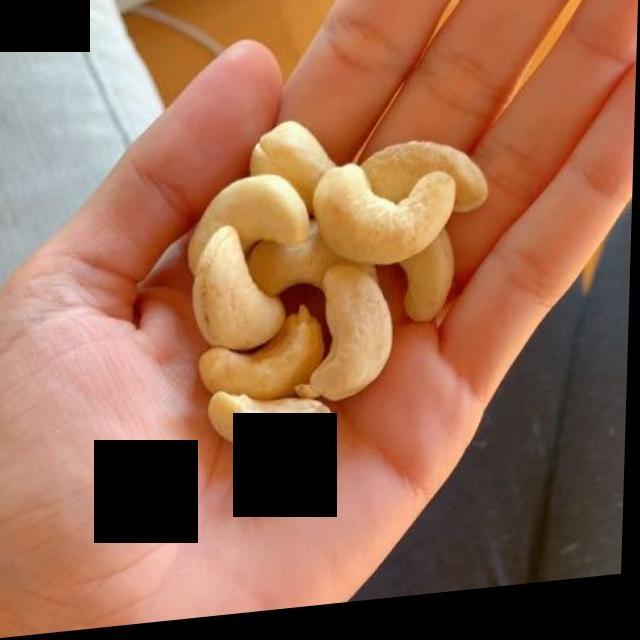cashew-nut: (197, 128, 479, 455)
